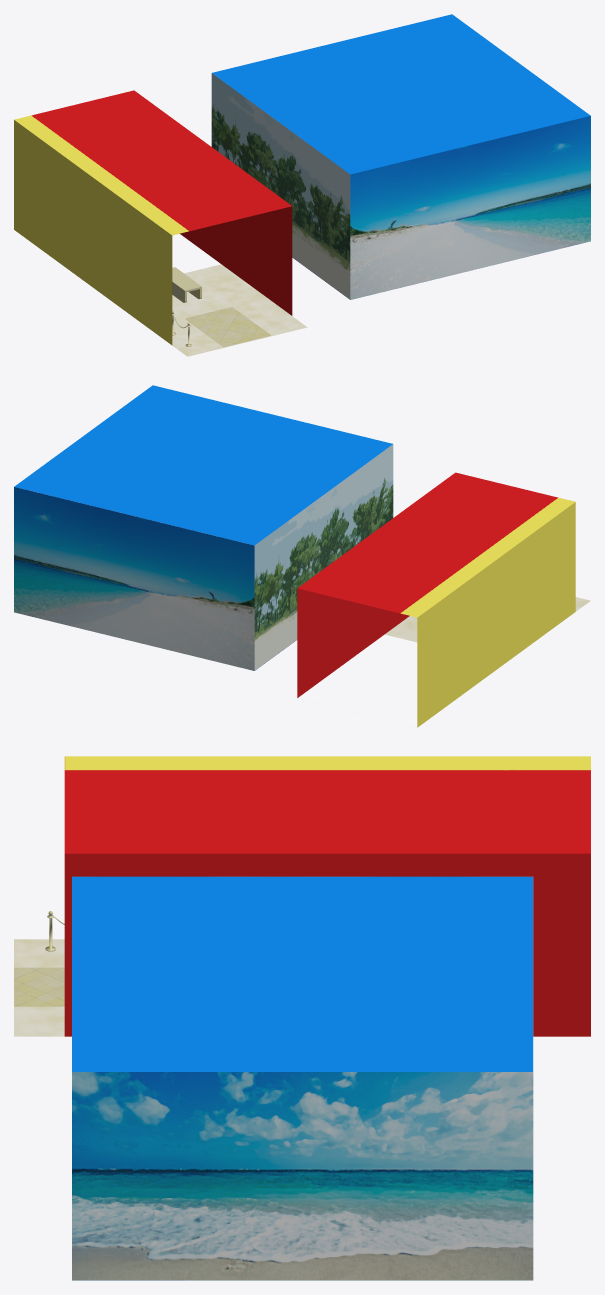
File: aisle3.fbx
3 views of the same model, one above another, from view 1: azimuth 30°, elevation 25°; view 2: azimuth 150°, elevation 25°; view 3: azimuth 270°, elevation 25° (orthographic). The views are drawn at different scales.
Parts seen in each view (by area): view 1: stage2.002, stage1; view 2: stage2.002, stage1; view 3: stage2.002, stage1.
Part boxes in pixels (x1,y1,x2,y2): stage2.002: [211, 14, 590, 299]; stage1: [14, 90, 307, 356]; stage2.002: [14, 385, 393, 670]; stage1: [297, 472, 590, 727]; stage2.002: [72, 876, 533, 1280]; stage1: [14, 756, 590, 1036].
Size of the model in its own units: 1400 by 399 by 1000.
